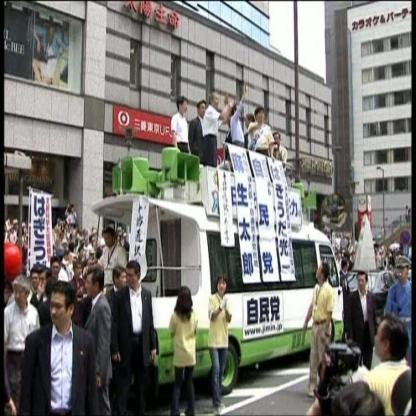face: (51, 298, 70, 324), (375, 325, 390, 354), (15, 287, 27, 305), (127, 271, 139, 287), (86, 278, 95, 296), (398, 265, 408, 280), (118, 273, 127, 288), (39, 275, 48, 290), (32, 276, 41, 290), (218, 281, 226, 295), (358, 278, 366, 291), (52, 265, 60, 277), (200, 105, 208, 117), (317, 266, 324, 279), (90, 261, 97, 274), (106, 235, 113, 247), (273, 137, 280, 148), (258, 111, 264, 123), (214, 96, 219, 110), (182, 102, 188, 113), (76, 266, 82, 276), (5, 285, 10, 297), (118, 228, 123, 239), (246, 119, 251, 128), (93, 231, 98, 239), (90, 252, 95, 260), (93, 243, 98, 250), (85, 232, 89, 240), (345, 264, 349, 271), (93, 238, 97, 244), (67, 253, 70, 260), (64, 243, 67, 249), (339, 255, 342, 261), (81, 250, 84, 255)
